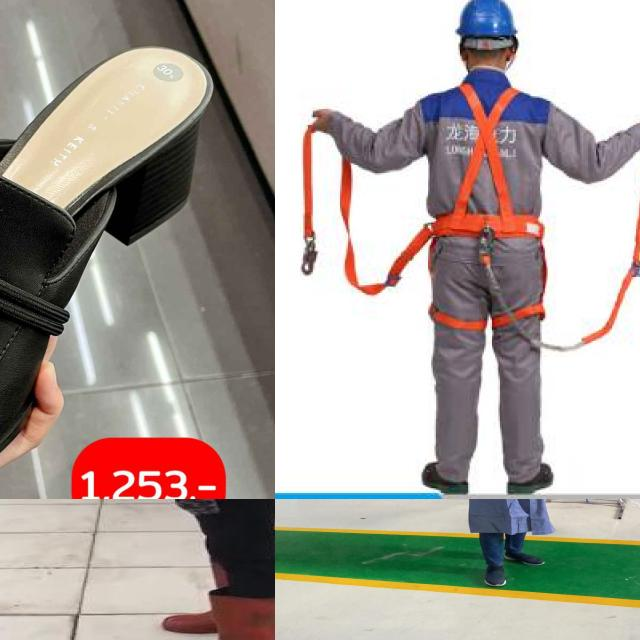Harness: (422, 82, 546, 331)
Sandals: (0, 24, 216, 499)
boots: (162, 595, 275, 640)
hand_glove: (173, 499, 226, 516)
person: (121, 499, 275, 640), (438, 499, 578, 593)
shoes: (477, 560, 511, 588), (500, 550, 546, 568)
